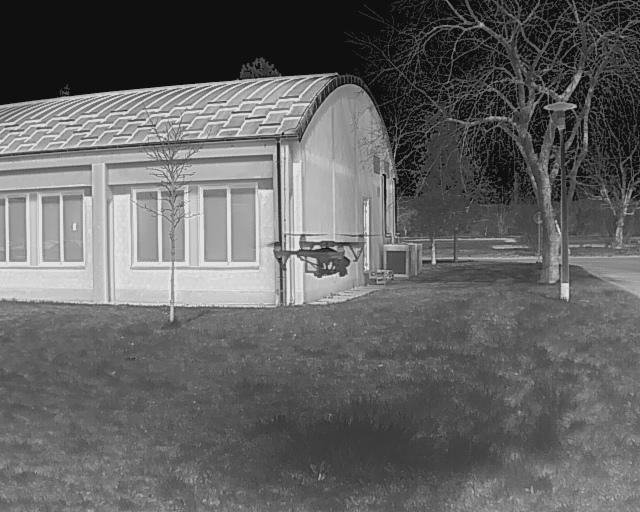drone: (263, 222, 371, 291)
